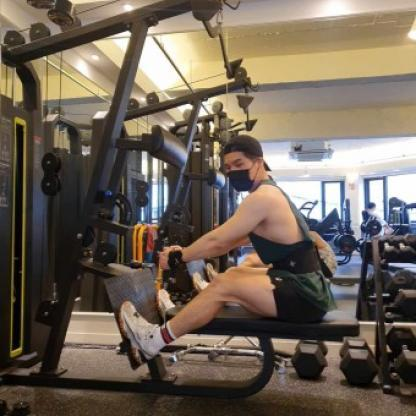Seated Cable Rows: (2, 0, 378, 416)
